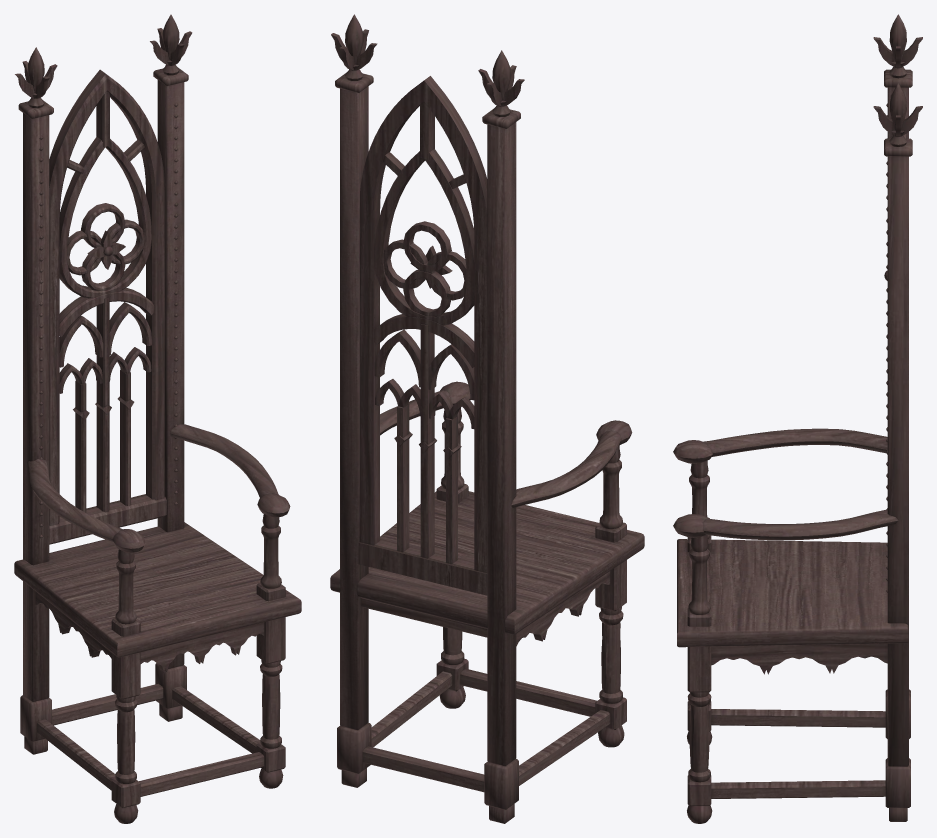
File: gothic-armchair_final.glb
The picture shows the model from 3 angles, left to right: view 1: azimuth 30°, elevation 25°; view 2: azimuth 150°, elevation 25°; view 3: azimuth 270°, elevation 25°; orthographic projection. The views are drawn at different scales.
Visible parts, largest first — view 1: SM_GothicArmchair_Seat, SM_GothicArmchair_BackTracery, SM_GothicArmchair_PostBack_R, SM_GothicArmchair_BackFrame, SM_GothicArmchair_PostBack_L, SM_GothicArmchair_Rails, SM_GothicArmchair_LegFront_R, SM_GothicArmchair_LegFront_L, SM_GothicArmchair_Apron, SM_GothicArmchair_Arm_L, SM_GothicArmchair_Arm_R, SM_GothicArmchair_ArmColumn_R (+4 smaller); view 2: SM_GothicArmchair_BackTracery, SM_GothicArmchair_PostBack_R, SM_GothicArmchair_BackFrame, SM_GothicArmchair_PostBack_L, SM_GothicArmchair_Seat, SM_GothicArmchair_Rails, SM_GothicArmchair_LegFront_R, SM_GothicArmchair_Arm_R, SM_GothicArmchair_ArmColumn_R, SM_GothicArmchair_LegFront_L, SM_GothicArmchair_Finial_L, SM_GothicArmchair_Finial_R (+3 smaller); view 3: SM_GothicArmchair_Seat, SM_GothicArmchair_PostBack_L, SM_GothicArmchair_Rails, SM_GothicArmchair_LegFront_L, SM_GothicArmchair_Arm_L, SM_GothicArmchair_Arm_R, SM_GothicArmchair_Apron, SM_GothicArmchair_ArmColumn_L, SM_GothicArmchair_Finial_R, SM_GothicArmchair_Finial_L, SM_GothicArmchair_ArmColumn_R, SM_GothicArmchair_PostBack_R.
Part boxes in pixels (box(x1,y1,x2,y2)): SM_GothicArmchair_Seat: box(14, 522, 301, 657); SM_GothicArmchair_BackTracery: box(59, 91, 154, 512); SM_GothicArmchair_PostBack_R: box(18, 101, 53, 754); SM_GothicArmchair_BackFrame: box(49, 69, 166, 544); SM_GothicArmchair_PostBack_L: box(153, 68, 188, 721); SM_GothicArmchair_Rails: box(37, 683, 264, 796); SM_GothicArmchair_LegFront_R: box(111, 652, 140, 823); SM_GothicArmchair_LegFront_L: box(256, 617, 285, 788); SM_GothicArmchair_Apron: box(35, 591, 264, 672); SM_GothicArmchair_Arm_L: box(170, 424, 290, 517); SM_GothicArmchair_Arm_R: box(27, 459, 145, 552); SM_GothicArmchair_ArmColumn_R: box(111, 549, 140, 636); SM_GothicArmchair_BackTracery: box(374, 102, 474, 563); SM_GothicArmchair_PostBack_R: box(482, 109, 520, 823); SM_GothicArmchair_BackFrame: box(358, 76, 487, 595); SM_GothicArmchair_PostBack_L: box(335, 73, 373, 787); SM_GothicArmchair_Seat: box(330, 491, 644, 634); SM_GothicArmchair_Rails: box(361, 598, 610, 792); SM_GothicArmchair_LegFront_R: box(595, 560, 626, 747); SM_GothicArmchair_Arm_R: box(511, 420, 632, 507); SM_GothicArmchair_ArmColumn_R: box(595, 445, 626, 542); SM_GothicArmchair_LegFront_L: box(436, 627, 468, 708); SM_GothicArmchair_Finial_L: box(331, 14, 377, 80); SM_GothicArmchair_Finial_R: box(478, 50, 524, 116); SM_GothicArmchair_Seat: box(677, 539, 908, 647); SM_GothicArmchair_PostBack_L: box(884, 138, 912, 821); SM_GothicArmchair_Rails: box(711, 709, 885, 798); SM_GothicArmchair_LegFront_L: box(687, 646, 712, 823); SM_GothicArmchair_Arm_L: box(673, 510, 898, 540); SM_GothicArmchair_Arm_R: box(673, 428, 887, 463); SM_GothicArmchair_Apron: box(711, 643, 887, 674); SM_GothicArmchair_ArmColumn_L: box(687, 535, 711, 626); SM_GothicArmchair_Finial_R: box(873, 14, 922, 78); SM_GothicArmchair_Finial_L: box(873, 83, 922, 146); SM_GothicArmchair_ArmColumn_R: box(687, 460, 711, 551); SM_GothicArmchair_PostBack_R: box(884, 69, 912, 738).
Bounding box in the file's own units: 0.5166 × 1.72 × 0.528.
Materials: 1 (1 with a texture image).
